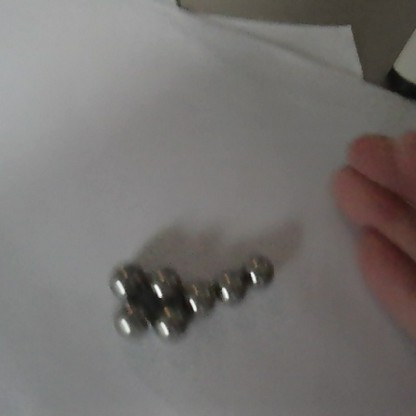ironball: (104, 260, 148, 305), (108, 304, 151, 345), (177, 279, 221, 318), (146, 303, 188, 343), (239, 249, 278, 292), (144, 265, 184, 304), (208, 266, 248, 304)
